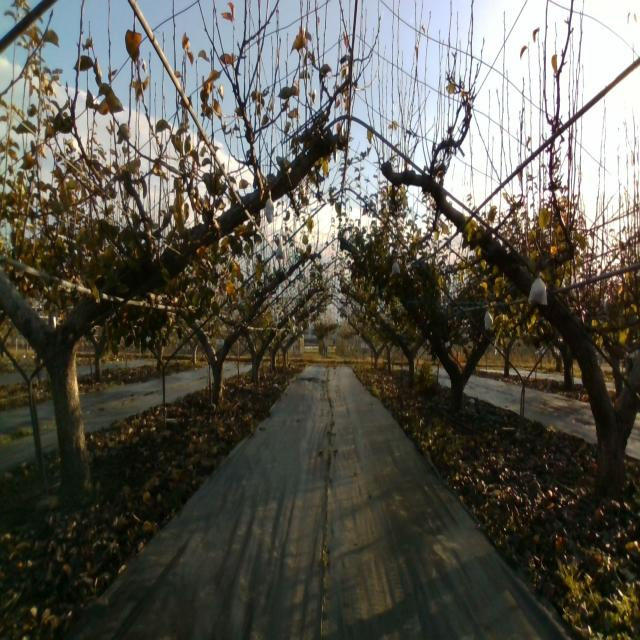pearbags: (527, 270, 548, 306), (265, 190, 274, 223), (276, 242, 286, 260)
